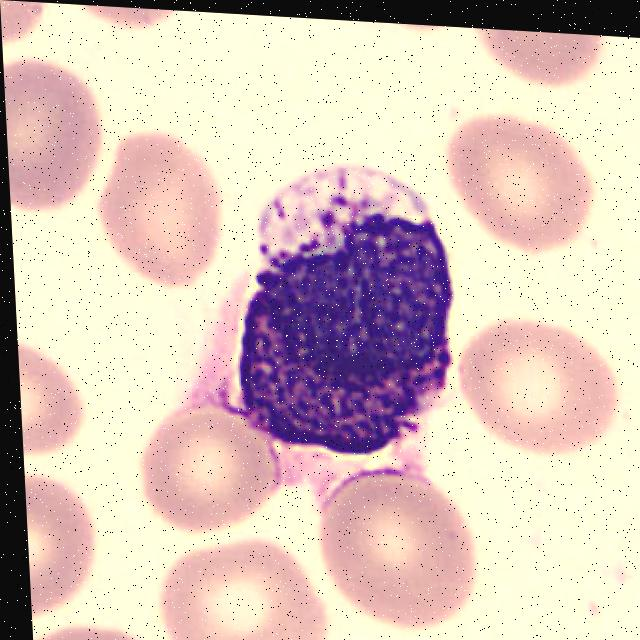basophil: (215, 159, 477, 474)
rbc: (428, 99, 618, 263), (307, 469, 489, 640), (86, 103, 224, 307), (441, 314, 618, 473), (153, 532, 349, 640), (131, 406, 294, 532), (3, 57, 111, 227), (24, 472, 114, 629), (18, 344, 98, 474), (468, 28, 608, 102), (63, 4, 218, 63), (359, 22, 477, 54), (32, 614, 157, 640), (0, 0, 55, 58)
